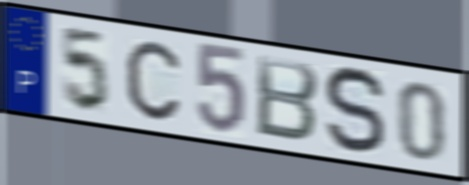0: (394, 78, 450, 163)
5: (193, 41, 248, 139), (58, 24, 112, 114)
B: (254, 52, 321, 146)
C: (123, 38, 182, 124)
S: (322, 64, 389, 158)
